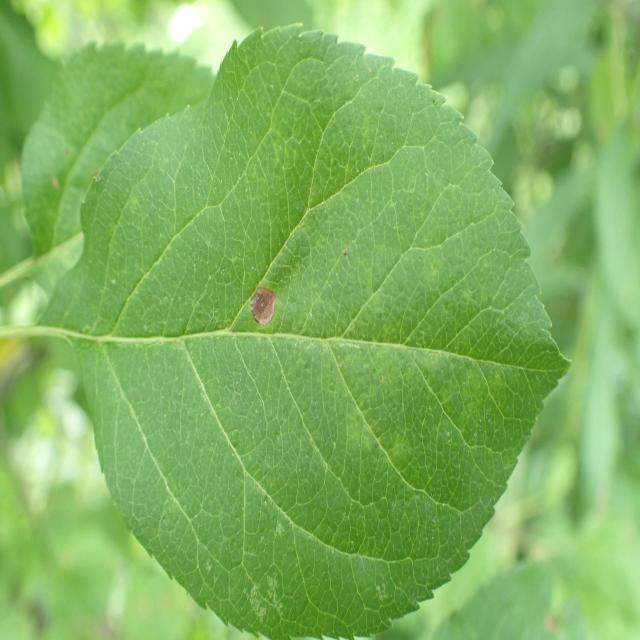frog-eye-leaf-spot: (39, 21, 572, 638)
